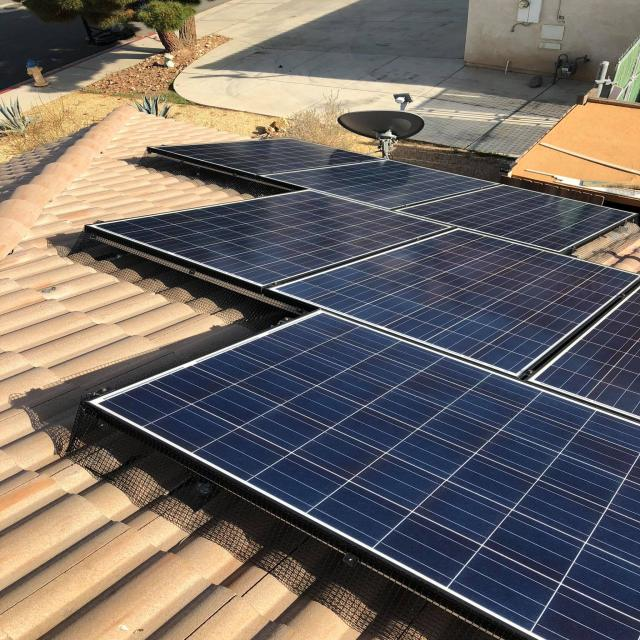clean-solar-panel: (92, 312, 638, 640), (90, 191, 638, 414), (150, 139, 633, 251)
